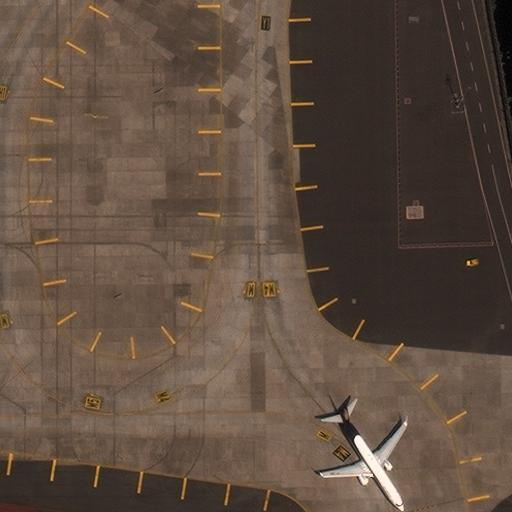Medium Civil Transport: (319, 408, 407, 510)
